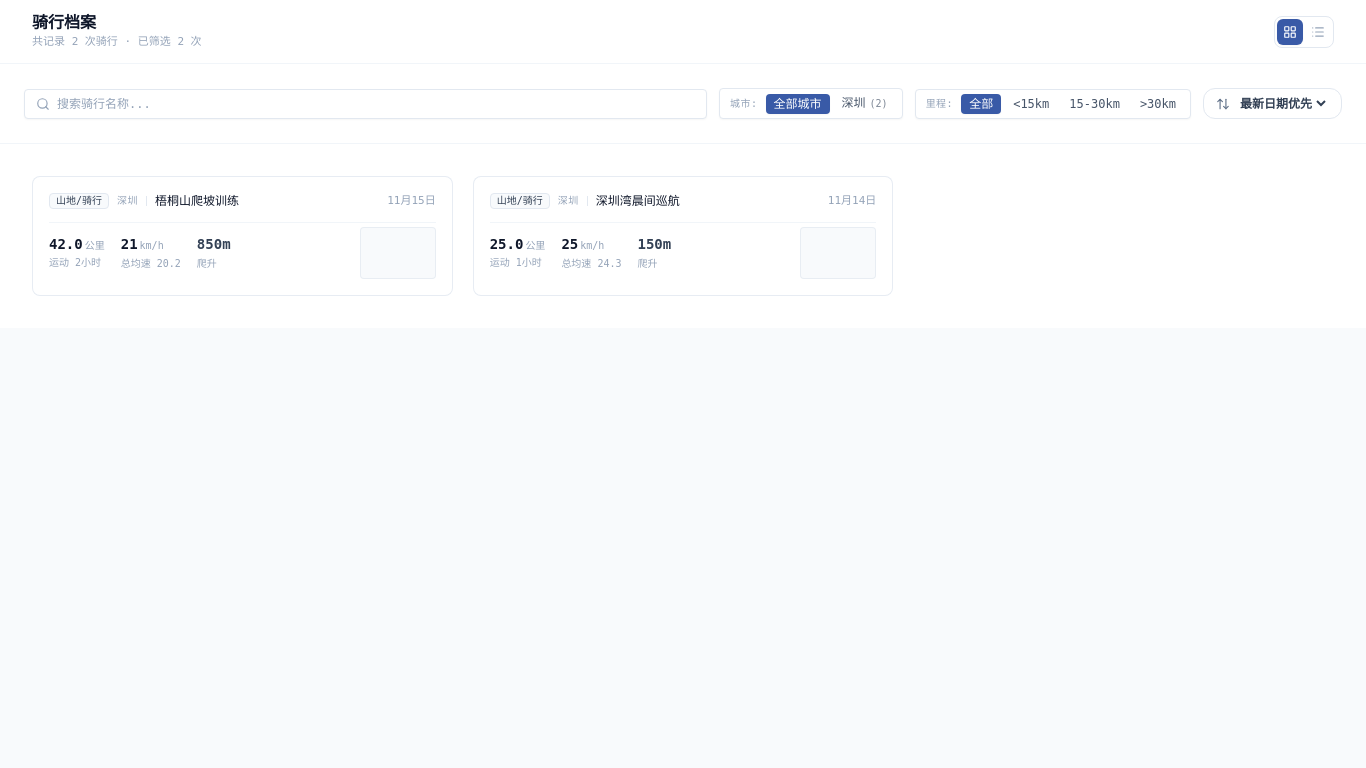
Test: ActivitiesList 骑行列表页面 › 在表格模式下点击删除图标并在确认后执行删除
Expected: the text "深圳湾晨间巡航" is shown, [596,193,680,209]
#  切换到表格视图
Click the button named "紧凑表格视图": [1318, 32] box [1305,18,1331,44]
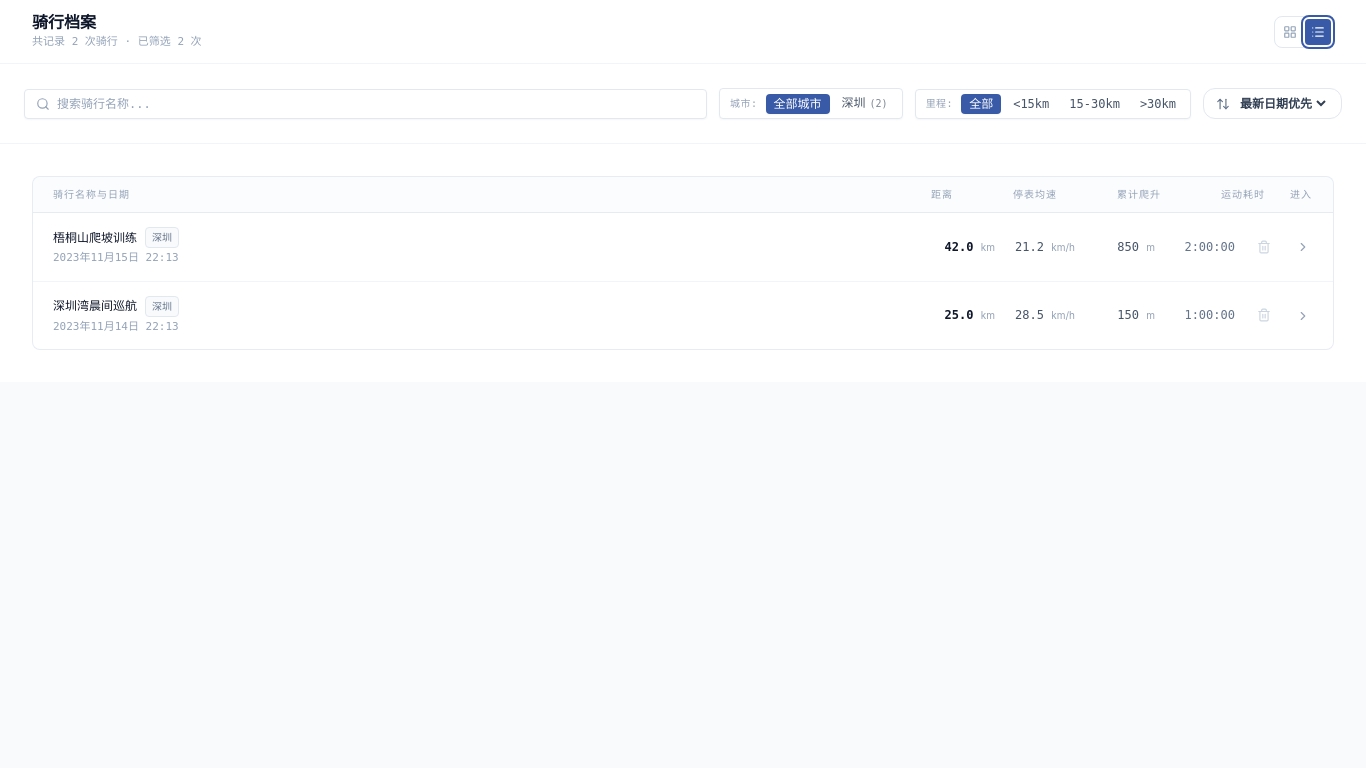
Now the number of buttons named "删除此记录" is 2
Click the button named "删除此记录" next to "2:00:00": [1264, 247] box [1251,234,1277,260]
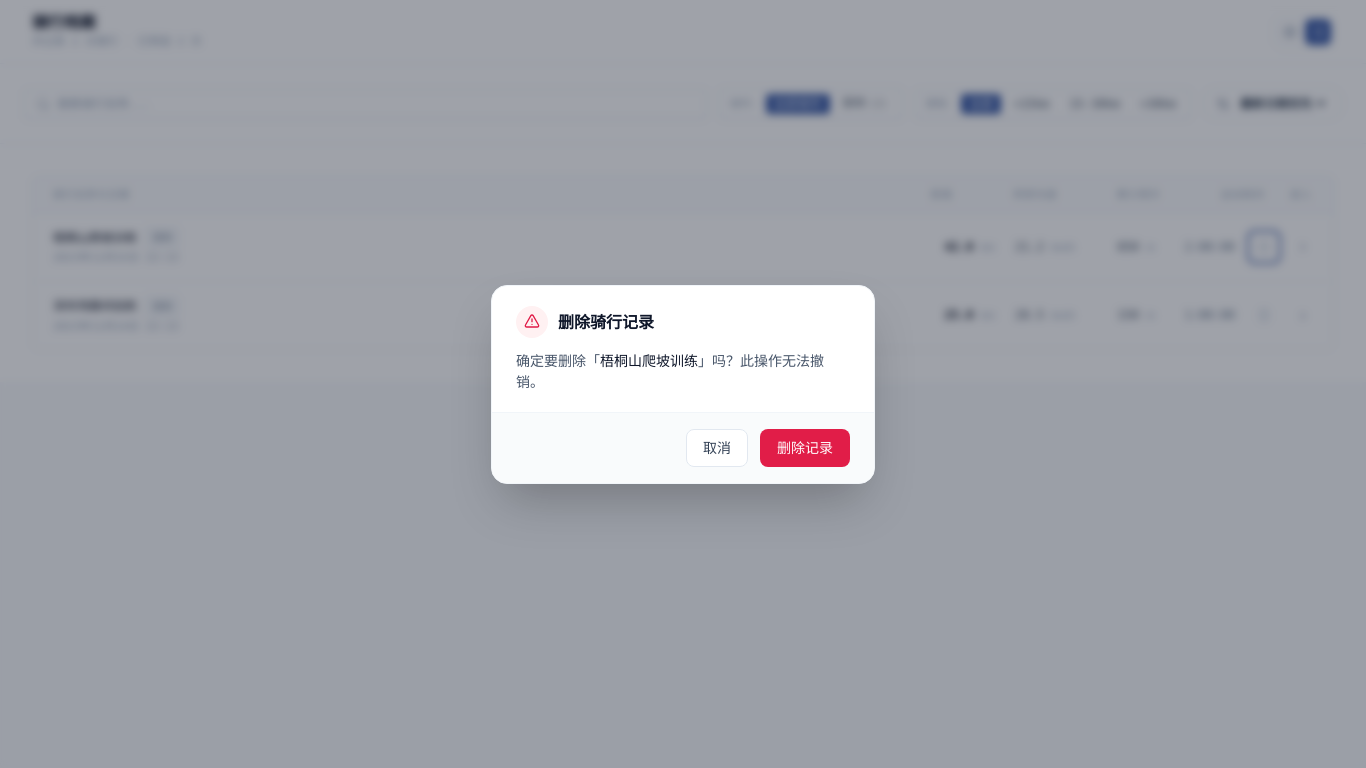
Now the heading "删除骑行记录" is shown, box [558,312,654,332]
Click the button "删除记录": [805, 448] box [760,428,850,466]
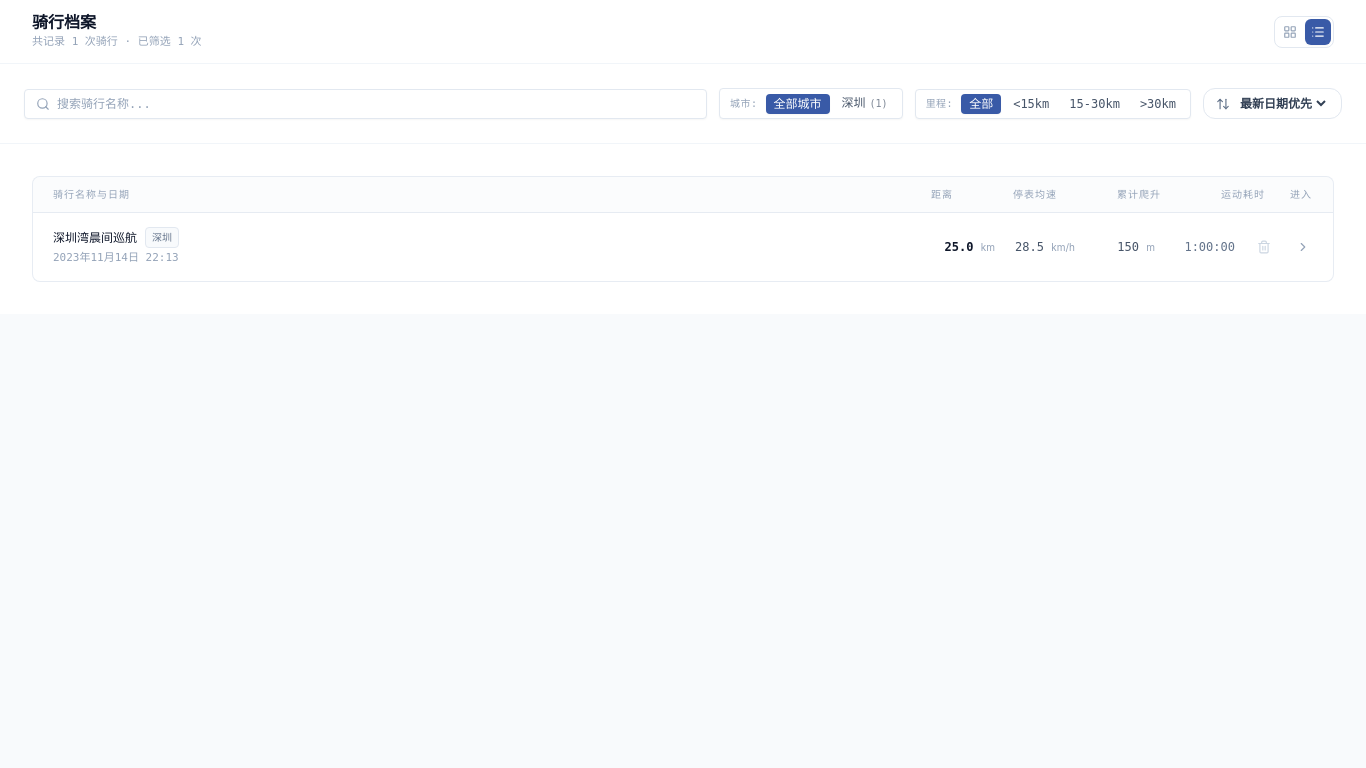
Expected: the text "深圳湾晨间巡航" is shown, [53,230,137,246]
Now the text "梧桐山爬坡训练" is gone
